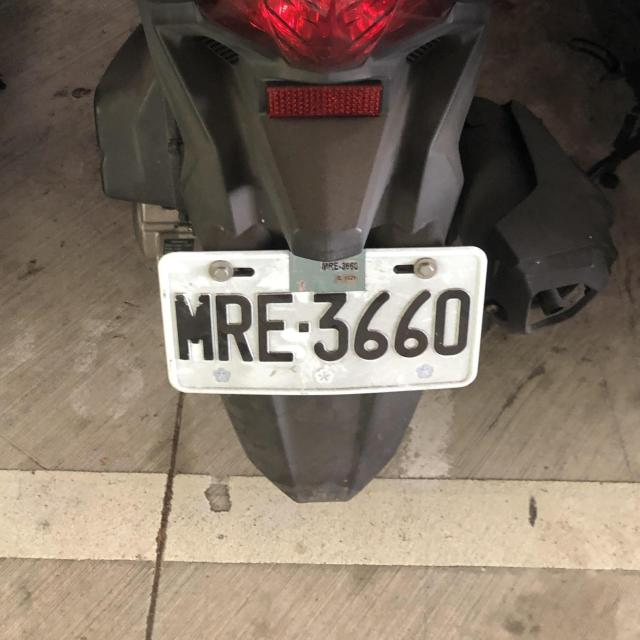W: (149, 235, 495, 402)
